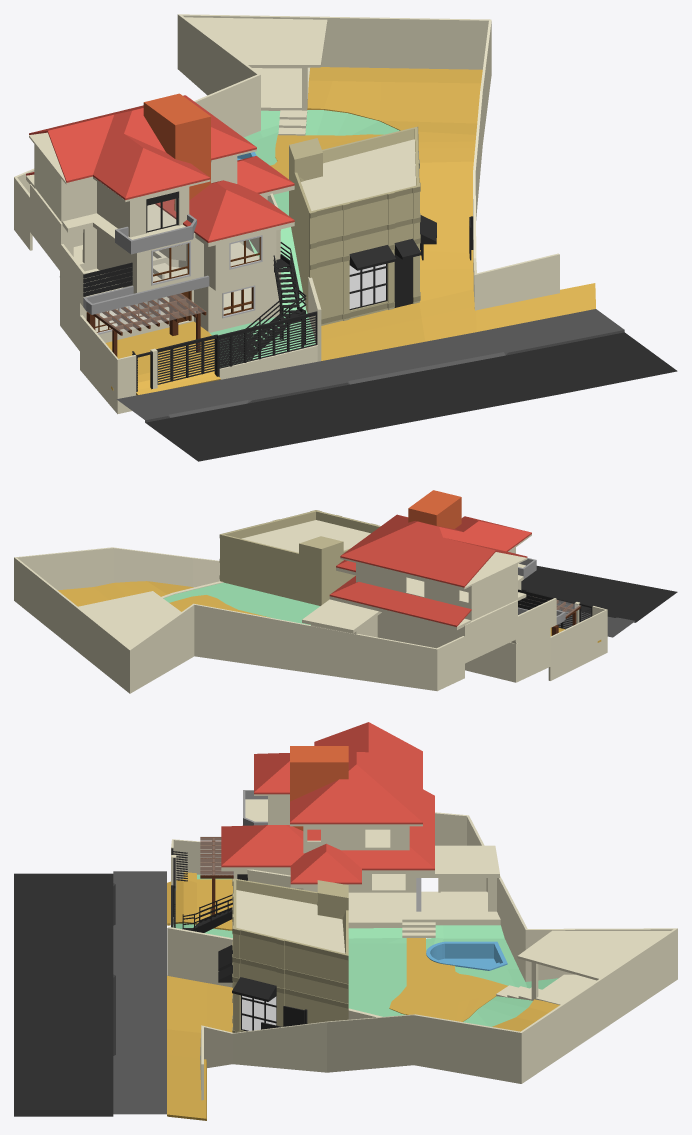
3 renders of one model, top to bottom at view 1: azimuth 30°, elevation 25°; view 2: azimuth 150°, elevation 25°; view 3: azimuth 270°, elevation 25°, orthographic. The views are drawn at different scales.
Visible parts, largest first — view 1: calcada, Plane.001, Plane.013, paredes.predio, Basic Roof Generic - 10mm [1588863], parede.terreo, parede.superior, Plane.048, laje.cobertura.predio, parede.inferior, grama.001, Basic Roof Generic - 10mm [1590374] (+31 smaller); view 2: Plane.013, paredes.predio, Basic Roof Generic - 10mm [1588863], calcada, parede.terreo, parede.superior, Plane.048, Basic Roof Generic - 10mm [1589679], piso.superior, grama.001, parede.inferior, Plane.017 (+7 smaller); view 3: calcada, Plane.013, Basic Roof Generic - 10mm [1588863], Plane.017, paredes.predio, Plane.001, Plane.012, Plane.014, Basic Roof Generic - 10mm [1589679], Plane.048, laje.cobertura.predio, piso.superior (+17 smaller).
Boxes of the visible parts, x1,y1,x2,y2 form: calcada: (116, 309, 677, 461); Plane.001: (307, 67, 595, 360); Plane.013: (14, 14, 559, 310); paredes.predio: (289, 127, 418, 325); Basic Roof Generic - 10mm [1588863]: (29, 95, 256, 200); parede.terreo: (30, 184, 280, 293); parede.superior: (34, 144, 237, 237); Plane.048: (185, 17, 327, 67); laje.cobertura.predio: (301, 139, 415, 210); parede.inferior: (60, 237, 280, 350); grama.001: (80, 315, 317, 414); Basic Roof Generic - 10mm [1590374]: (155, 180, 294, 242); Plane.013: (14, 547, 464, 693); paredes.predio: (220, 510, 380, 605); Basic Roof Generic - 10mm [1588863]: (340, 514, 531, 587); calcada: (521, 566, 677, 637); parede.terreo: (311, 582, 521, 663); parede.superior: (356, 547, 517, 620); Plane.048: (74, 591, 181, 648); Basic Roof Generic - 10mm [1589679]: (329, 560, 471, 626); piso.superior: (302, 563, 526, 633); grama.001: (548, 606, 607, 680); parede.inferior: (465, 628, 550, 682); Plane.017: (163, 582, 319, 625); calcada: (14, 871, 166, 1116); Plane.013: (200, 812, 677, 1100); Basic Roof Generic - 10mm [1588863]: (254, 722, 422, 824); Plane.017: (348, 925, 558, 1026); paredes.predio: (234, 878, 348, 1031); Plane.001: (167, 976, 559, 1120); Plane.012: (348, 891, 500, 937); Plane.014: (389, 938, 507, 1021); Basic Roof Generic - 10mm [1589679]: (290, 789, 434, 884); Plane.048: (517, 930, 670, 981); laje.cobertura.predio: (236, 890, 345, 953); piso.superior: (221, 799, 499, 888).
Bounding box in the file's own units: 36.35 × 13.78 × 39.64.
